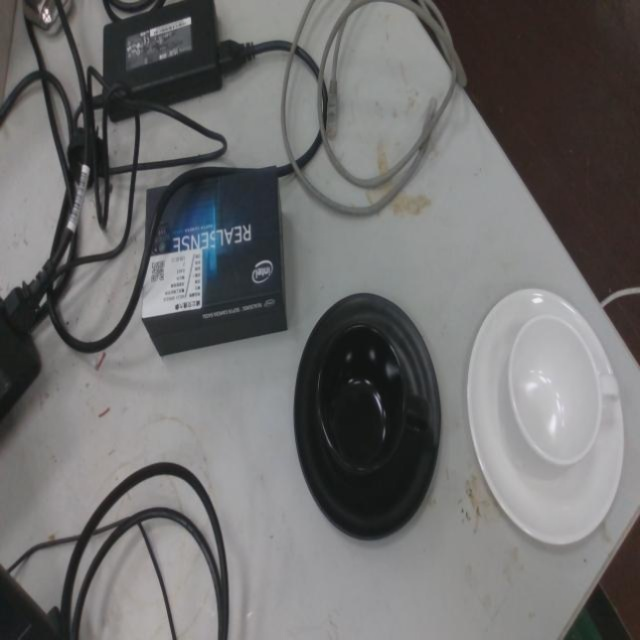black: (291, 287, 444, 547)
white: (464, 283, 627, 553)
